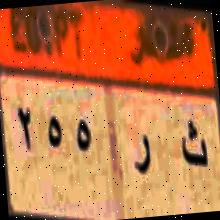2: (16, 98, 36, 156)
5: (44, 109, 66, 156), (73, 113, 93, 162)
raa: (128, 123, 158, 183)
thaa: (178, 112, 210, 174)
